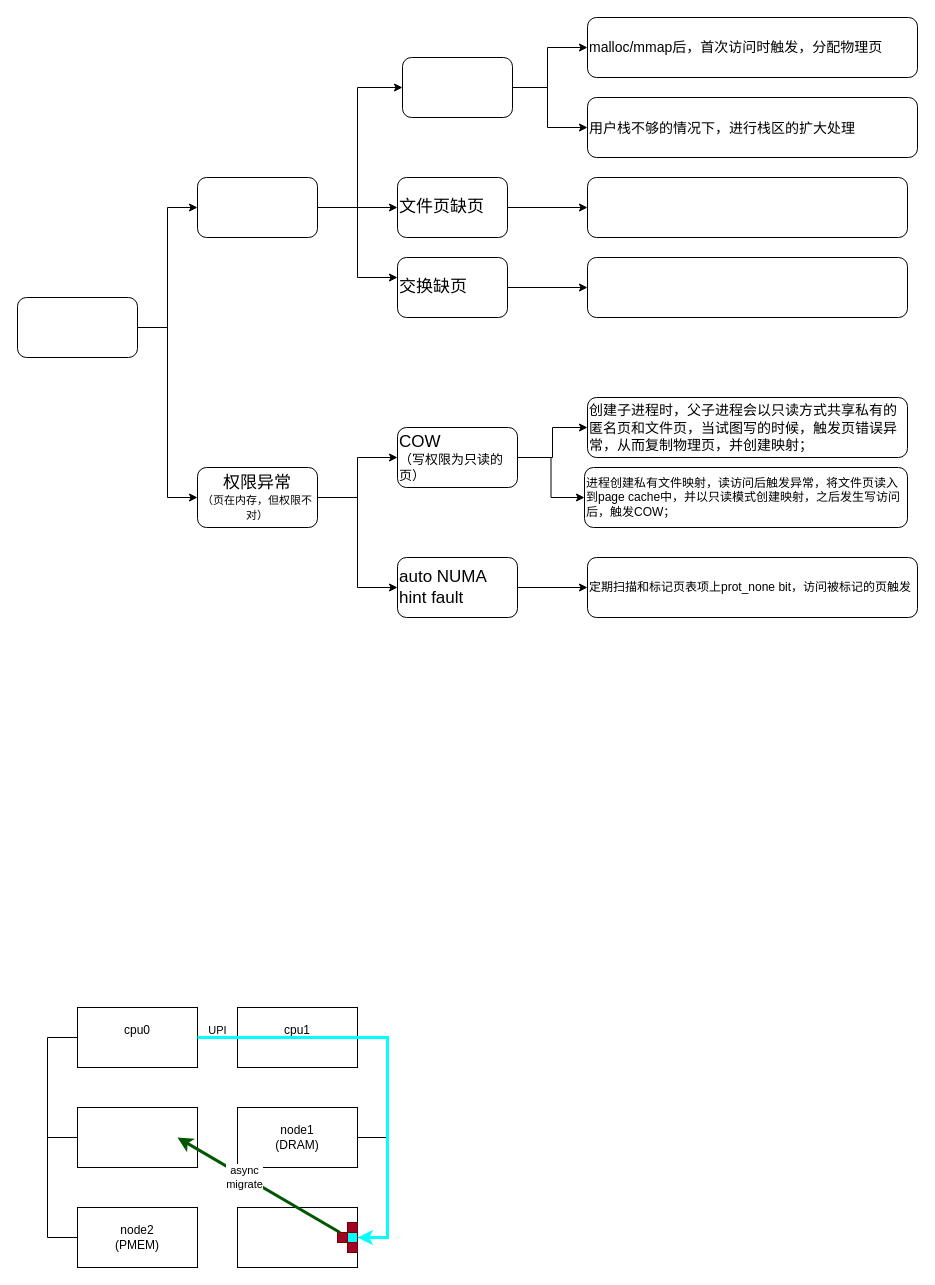
Some shapes in this 935 by 1285 pixel diagram are drawn without their labels. The shapes that lost their labels are listed below. From the top down, each one's centre as x and y in pixels, then its label:
At pixel 457 87: "匿名页缺页".
At pixel 257 207: "缺页异常 （页不在内存）".
At pixel 747 207: "首次访问文件页时触发，则从文件系统读入到page cache".
At pixel 747 287: "访问了被交换到了磁盘的页，则swap in".
At pixel 77 327: "MMU触发 page fault".
At pixel 137 1137: "node0 (DRAM)".
At pixel 297 1237: "node3 (PMEM)".
